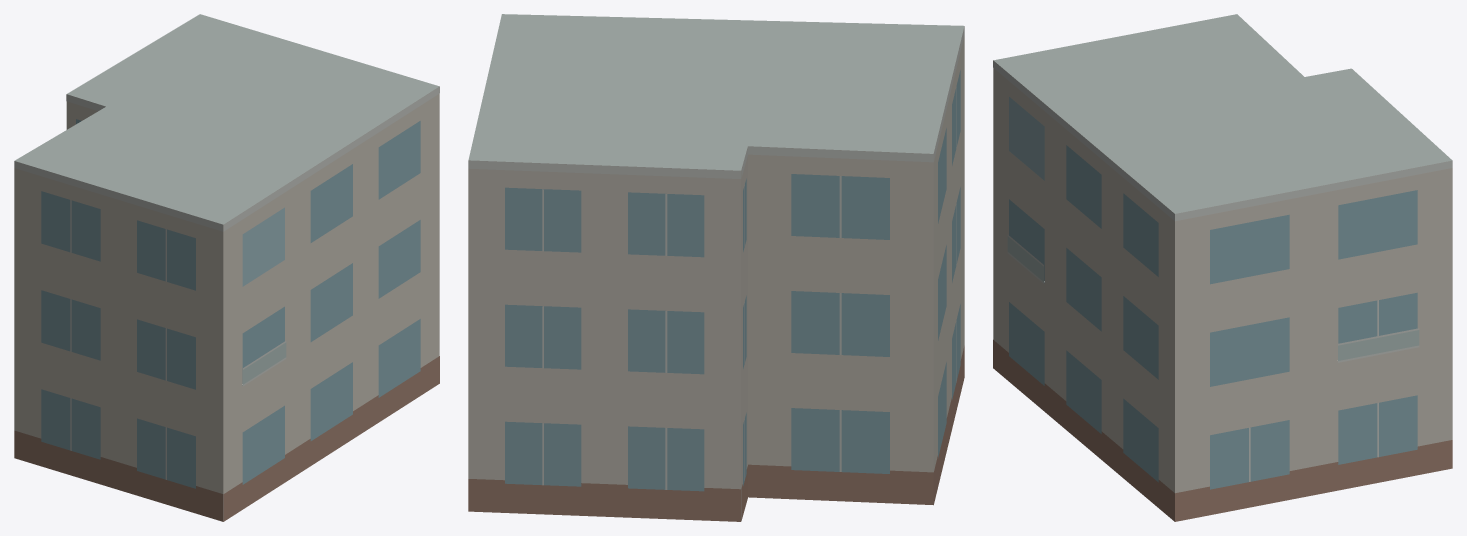
The model's file is survey-upis-32464130.glb.
3 renders of one model, left to right at view 1: azimuth 30°, elevation 25°; view 2: azimuth 150°, elevation 25°; view 3: azimuth 270°, elevation 25°, orthographic. The views are drawn at different scales.
Visible parts, largest first — view 1: survey-upis-32464130.tmp; view 2: survey-upis-32464130.tmp; view 3: survey-upis-32464130.tmp.
Boxes of the visible parts, x1,y1,x2,y2 form: survey-upis-32464130.tmp: (14, 14, 439, 521); survey-upis-32464130.tmp: (468, 14, 964, 521); survey-upis-32464130.tmp: (993, 14, 1452, 521).
Bounding box in the file's own units: 14.21 × 10.2 × 13.8.
